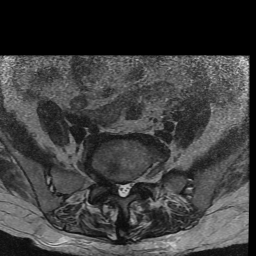CCS_severe_stenosis: (120, 178, 126, 204)
LFS_stenosis: (133, 172, 139, 189)
LLS_stenosis: (127, 176, 133, 198)
RFS_severe_stenosis: (108, 174, 115, 193)
RLS_severe_stenosis: (115, 175, 121, 198)
